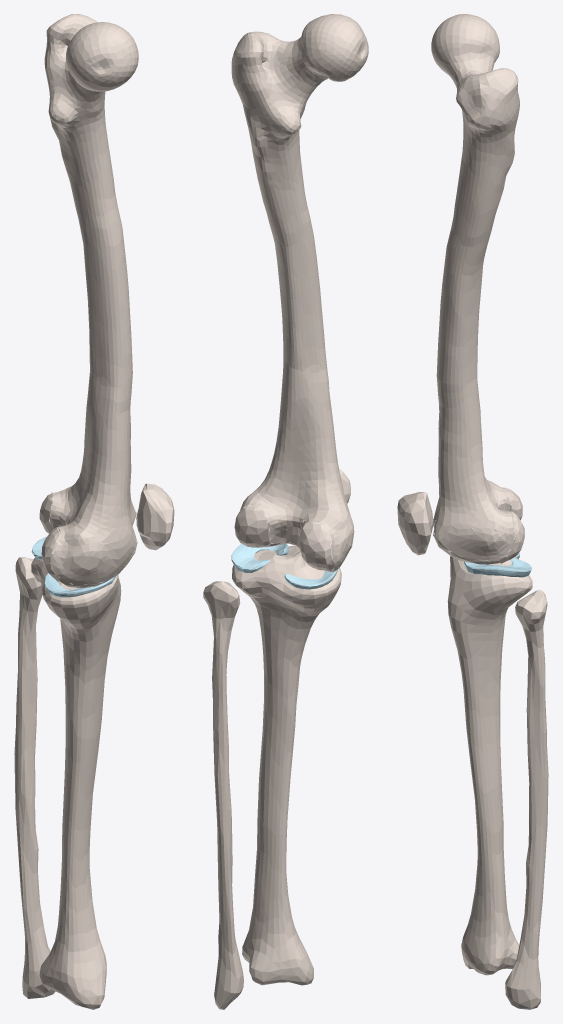
The model's file is VH_F_Knee_L_0.4.glb.
3 renders of one model, left to right at view 1: azimuth 90°, elevation 25°; view 2: azimuth 150°, elevation 25°; view 3: azimuth 270°, elevation 25°, orthographic. The views are drawn at different scales.
Parts seen in each view (by area): view 1: VH_F_femur_L, VH_F_tibia_L, VH_F_fibula_L, VH_F_patella_L, VH_F_meniscus_L, VH_F_medial_perichondular_surface_L, VH_F_medial_condyle_of_left_femur_inf, VH_F_articular_cartilage_of_knee_L, VH_F_medial_epicondylar_enthesis_L; view 2: VH_F_femur_L, VH_F_tibia_L, VH_F_fibula_L, VH_F_meniscus_L, VH_F_medial_condyle_of_left_femur_inf, VH_F_lateral_condyle_of_femur_inf_L, VH_F_anterior_cruciate_enthesis_L, VH_F_posterior_cruciate_enthesis_L; view 3: VH_F_femur_L, VH_F_tibia_L, VH_F_fibula_L, VH_F_patella_L, VH_F_meniscus_L, VH_F_lateral_perichondular_surface_L, VH_F_articular_cartilage_of_knee_L, VH_F_lateral_condyle_of_femur_inf_L.
Boxes of the visible parts, bbox=[...] form: VH_F_femur_L: bbox=[44, 14, 138, 584]; VH_F_tibia_L: bbox=[31, 557, 121, 1009]; VH_F_fibula_L: bbox=[14, 557, 55, 998]; VH_F_patella_L: bbox=[136, 483, 174, 550]; VH_F_meniscus_L: bbox=[31, 537, 116, 597]; VH_F_medial_perichondular_surface_L: bbox=[69, 550, 105, 575]; VH_F_medial_condyle_of_left_femur_inf: bbox=[41, 527, 59, 581]; VH_F_articular_cartilage_of_knee_L: bbox=[49, 492, 137, 586]; VH_F_medial_epicondylar_enthesis_L: bbox=[62, 542, 103, 569]; VH_F_femur_L: bbox=[231, 14, 368, 566]; VH_F_tibia_L: bbox=[232, 545, 341, 985]; VH_F_fibula_L: bbox=[203, 581, 243, 1009]; VH_F_meniscus_L: bbox=[231, 539, 337, 589]; VH_F_medial_condyle_of_left_femur_inf: bbox=[300, 523, 333, 570]; VH_F_lateral_condyle_of_femur_inf_L: bbox=[234, 506, 269, 546]; VH_F_anterior_cruciate_enthesis_L: bbox=[267, 514, 286, 543]; VH_F_posterior_cruciate_enthesis_L: bbox=[286, 515, 303, 546]; VH_F_femur_L: bbox=[431, 14, 519, 559]; VH_F_tibia_L: bbox=[447, 551, 532, 975]; VH_F_fibula_L: bbox=[505, 590, 548, 1009]; VH_F_patella_L: bbox=[397, 492, 433, 555]; VH_F_meniscus_L: bbox=[464, 549, 532, 577]; VH_F_lateral_perichondular_surface_L: bbox=[469, 527, 500, 549]; VH_F_articular_cartilage_of_knee_L: bbox=[433, 487, 515, 563]; VH_F_lateral_condyle_of_femur_inf_L: bbox=[506, 512, 524, 559].
Size of the model in its own units: 0.1018 by 0.772 by 0.1106.
